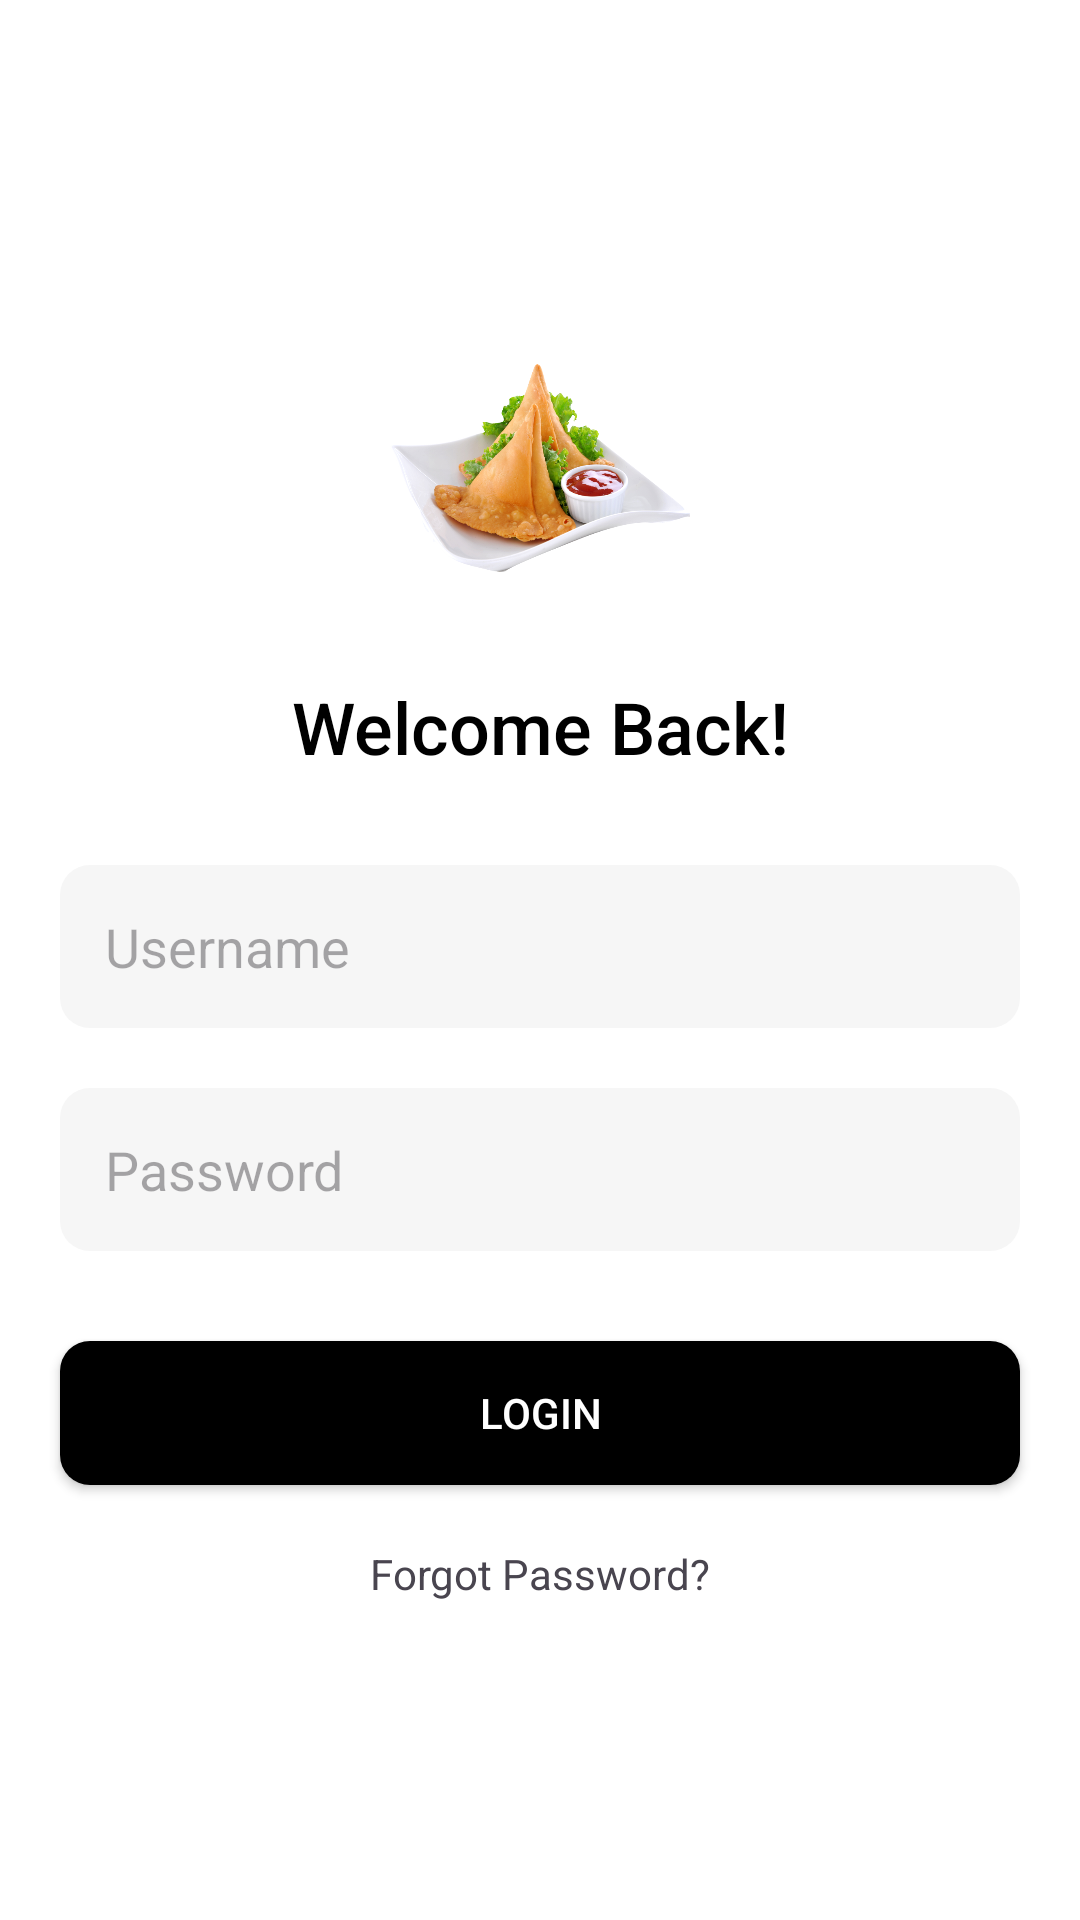

Icon click points for this 1080px×1920px phone screenshot, format point (x, y):
samosa: point (542, 468)
